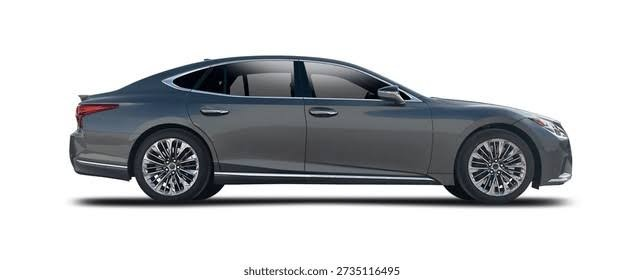car: (58, 54, 579, 202)
